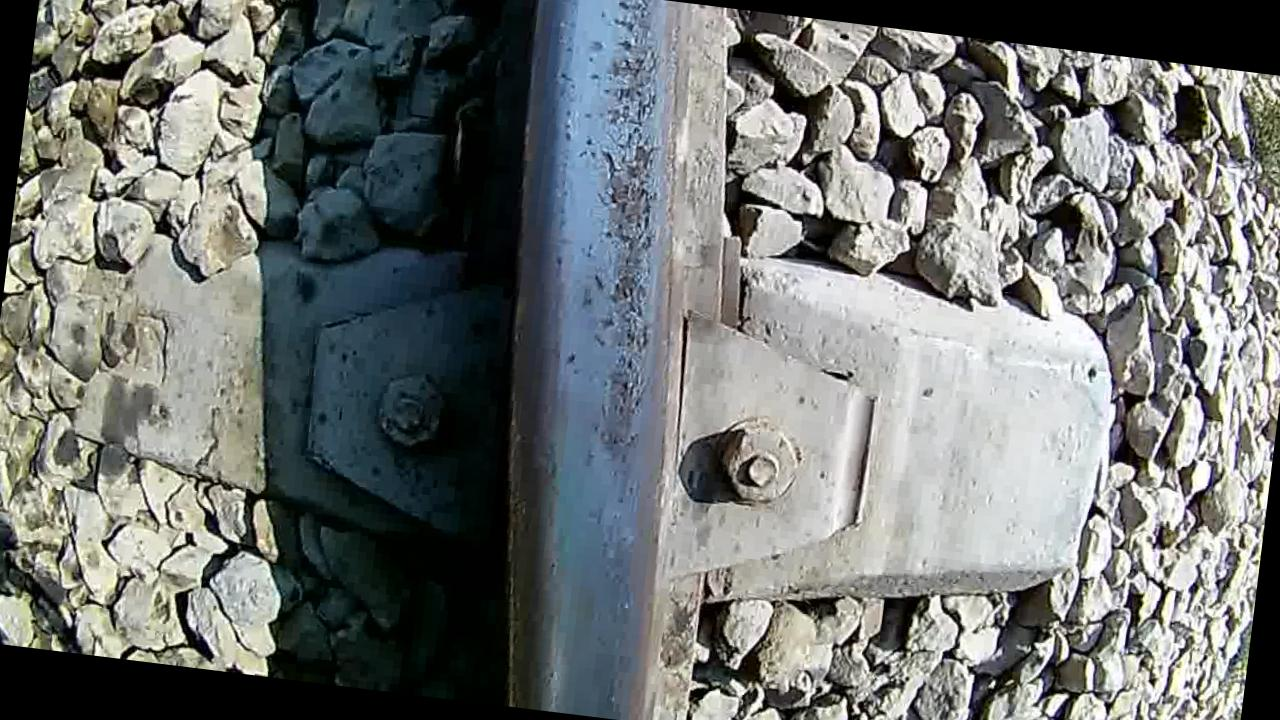crack: (450, 0, 724, 720)
